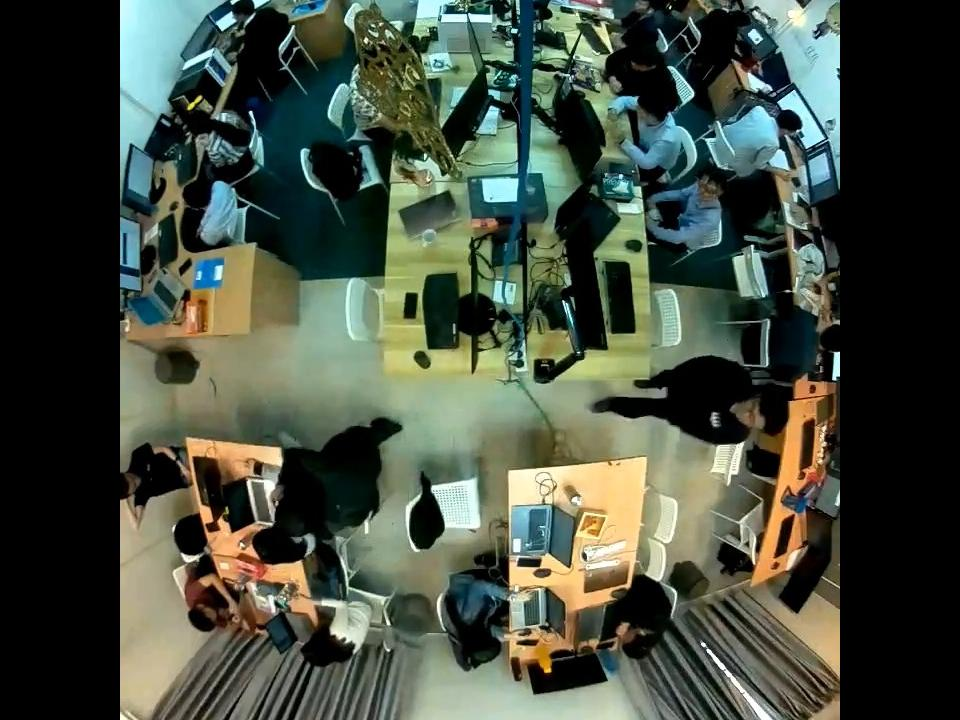name-tag: (708, 410, 722, 428)
